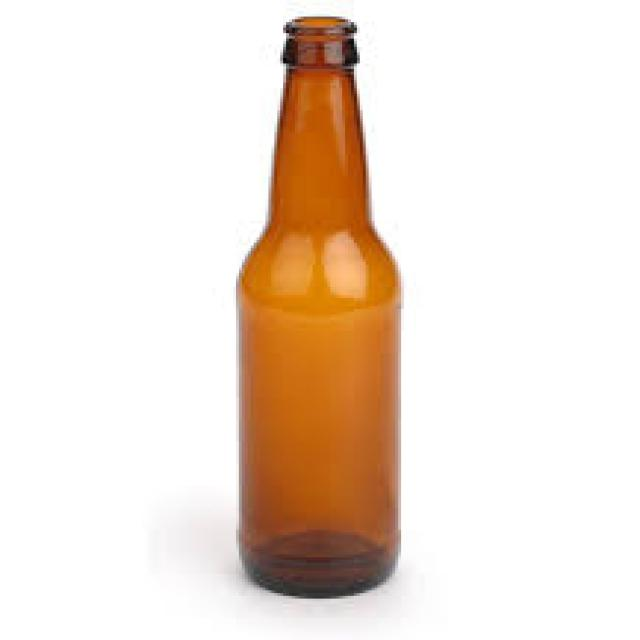glass: (233, 11, 398, 596)
